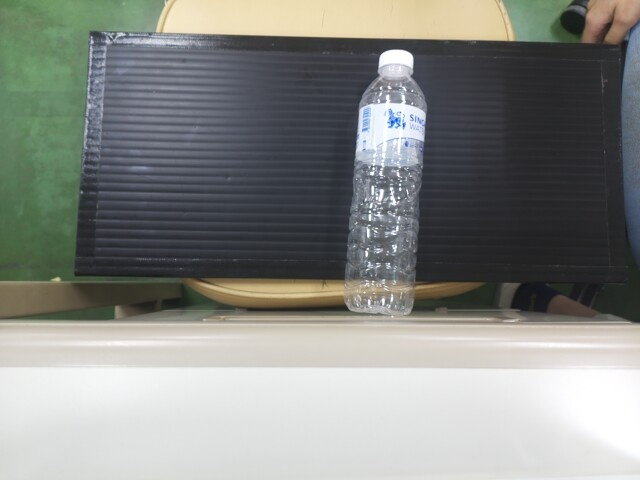plastic_bottle: (353, 46, 419, 312)
